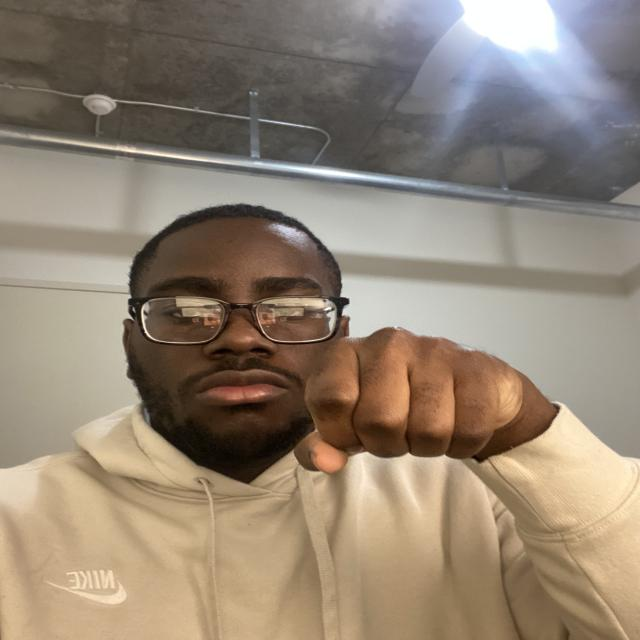Yes: (253, 316, 574, 520)
